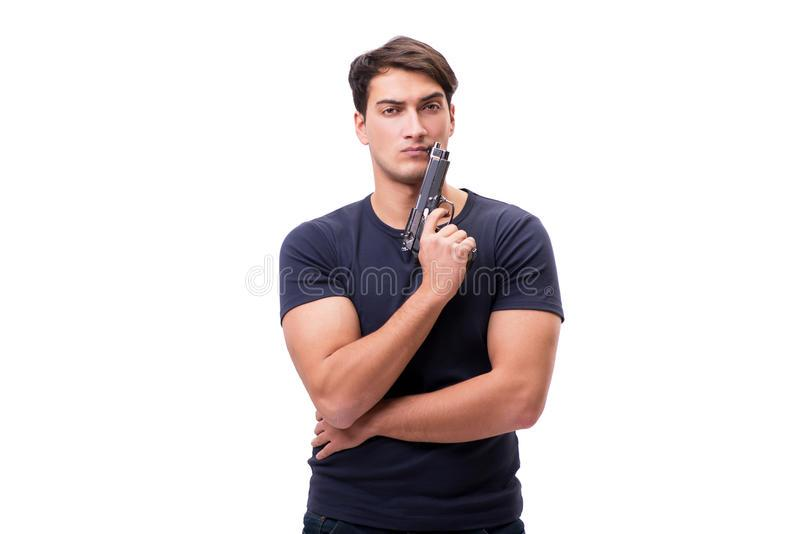criminal: (277, 31, 567, 534)
weapon: (396, 138, 482, 266)
